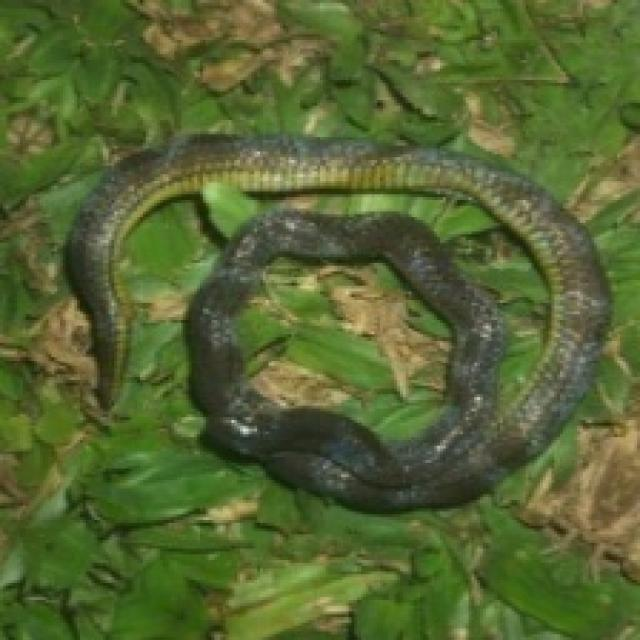gervais worm snake: (66, 137, 606, 509), (231, 251, 454, 443)
